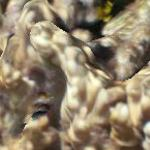alive: (9, 3, 147, 147)
